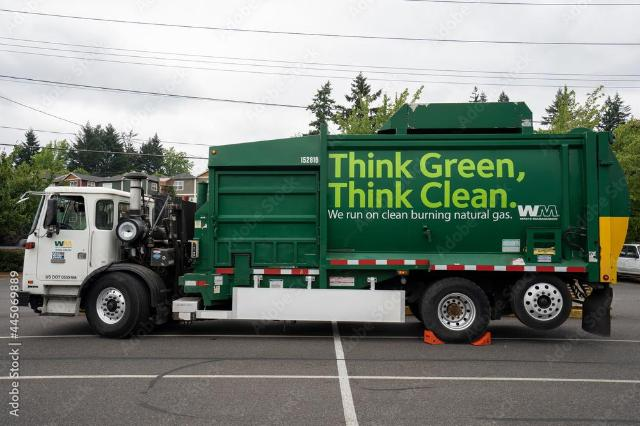truck: (26, 101, 631, 354)
